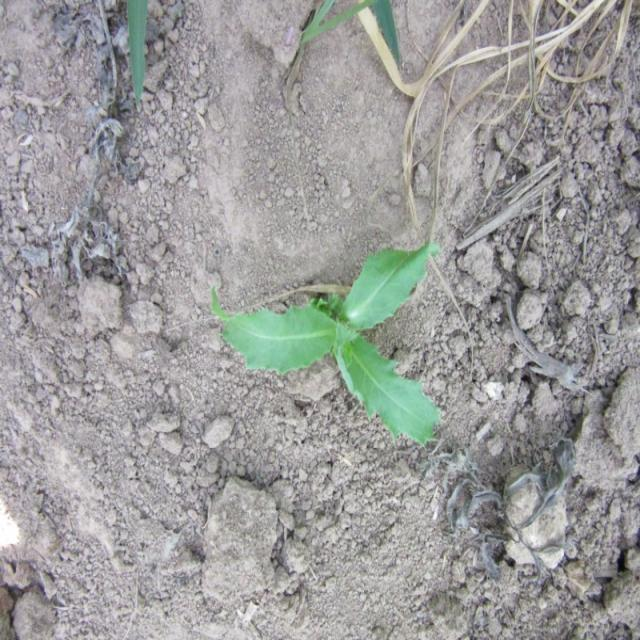field_thistle: (217, 245, 454, 470)
